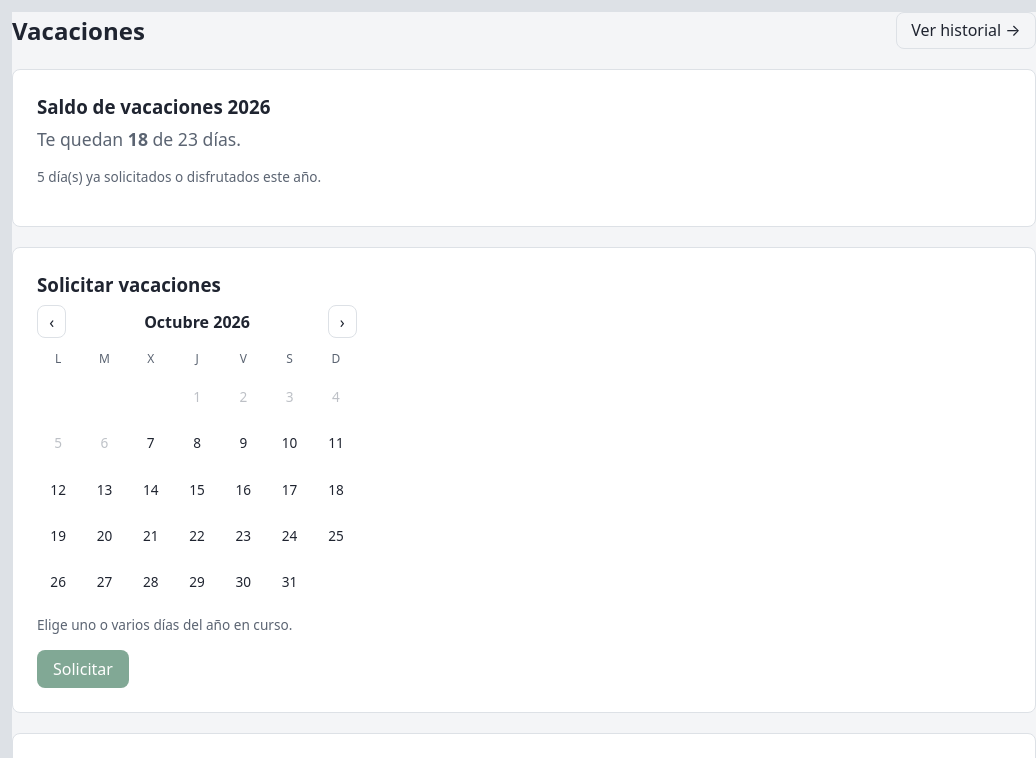
Test: WorkerVacations › usa un mensaje genérico si el error al enviar la solicitud no es un ApiError
Click the button "7" at (151, 443), box [130,422,172,464]
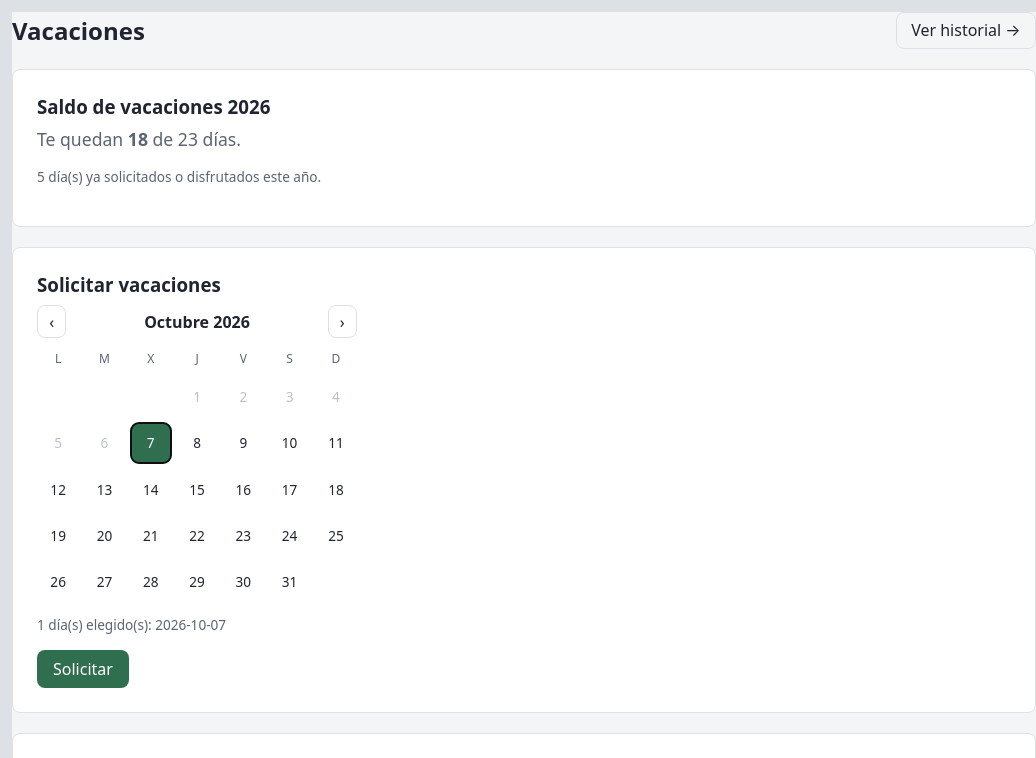
Click the button "Solicitar" at (83, 669), box [37,650,129,688]
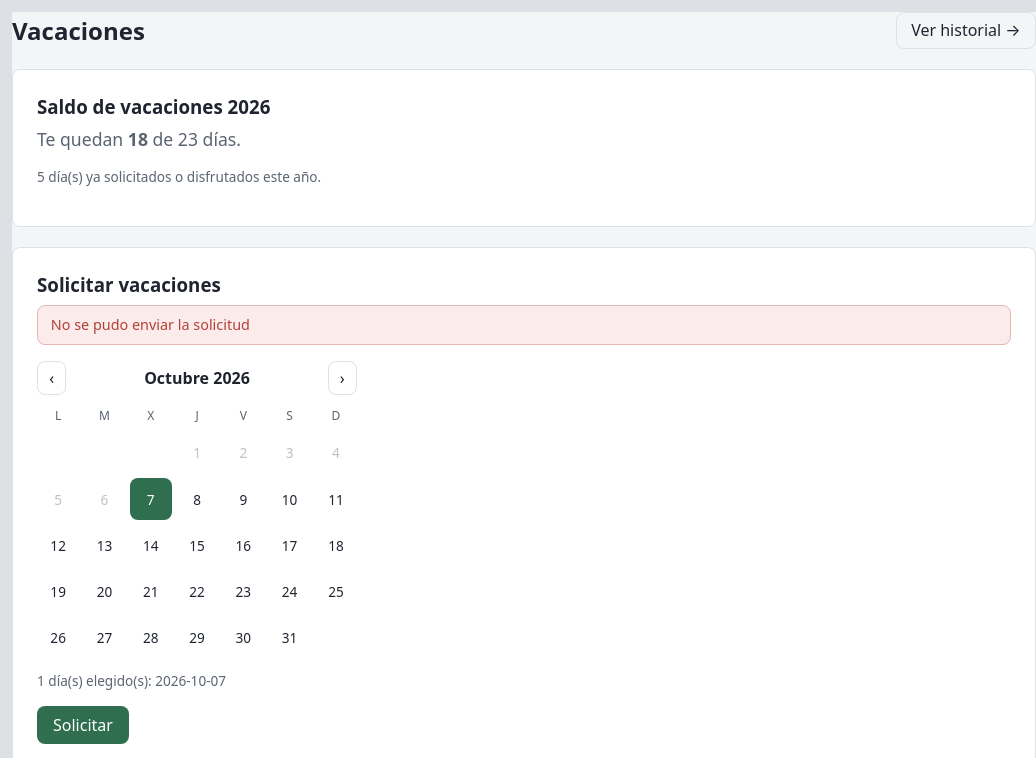
Check: the text "No se pudo enviar la solicitud" is shown, box [37,305,1011,345]
